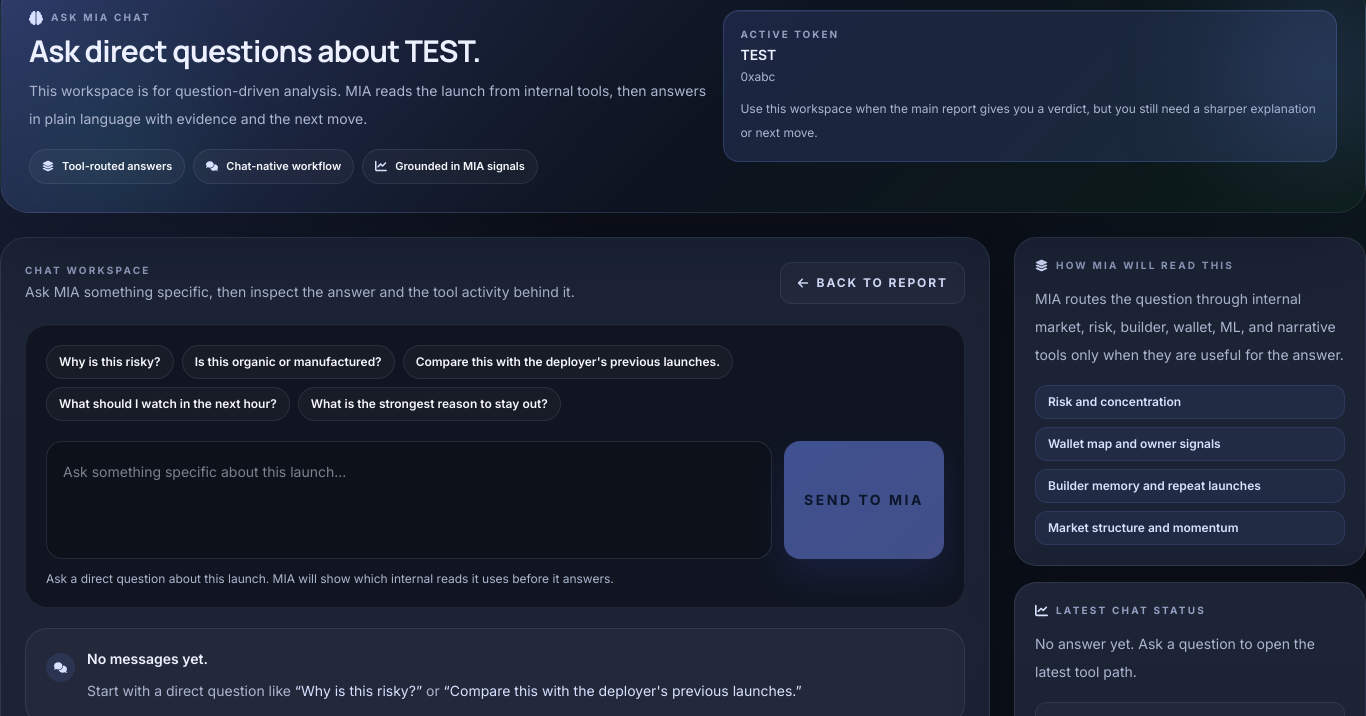
AskMiaChat › shows a safe error message when the request fails
Type "What should I watch in the next hour?" into the text box with placeholder "Ask something specific about this launch...".
click(409, 500); type("What should I watch in the next hour?")  # box [63, 458, 755, 542]
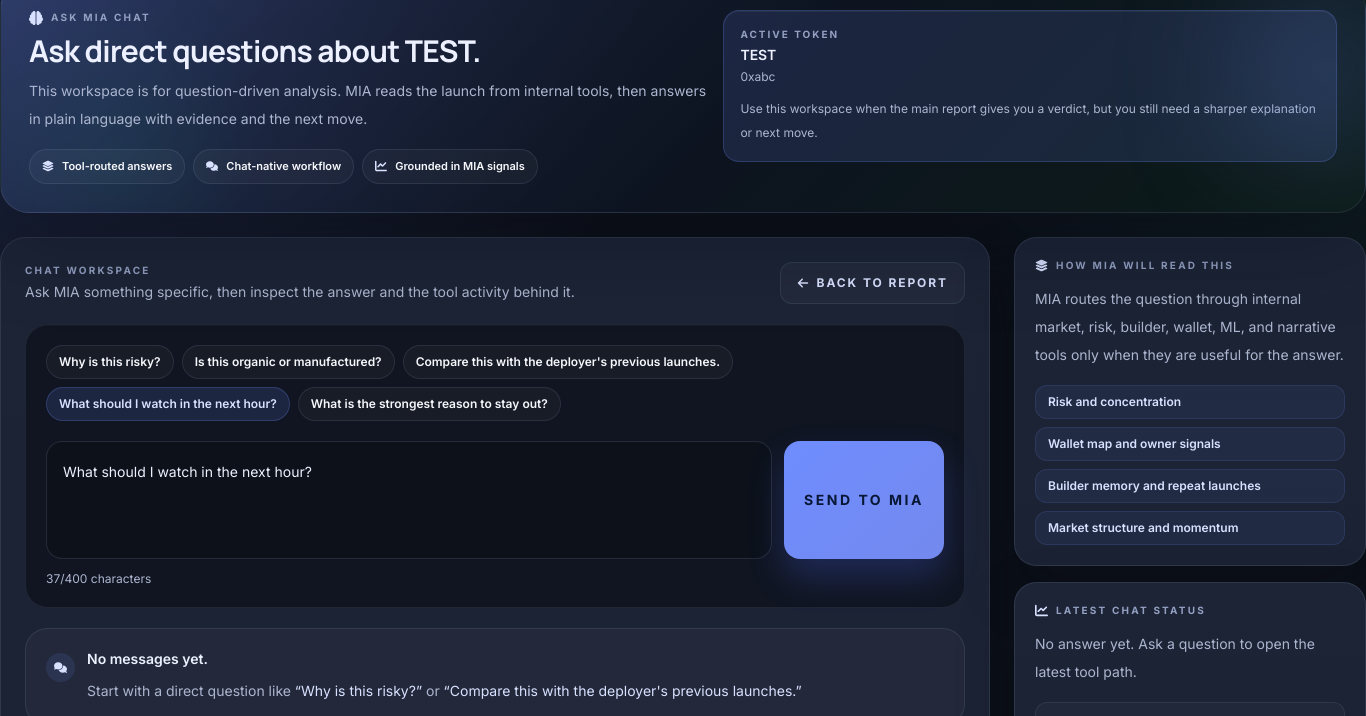
Click the button "Send to MIA".
click(864, 500)  # box [784, 440, 944, 558]
(page scrolled)
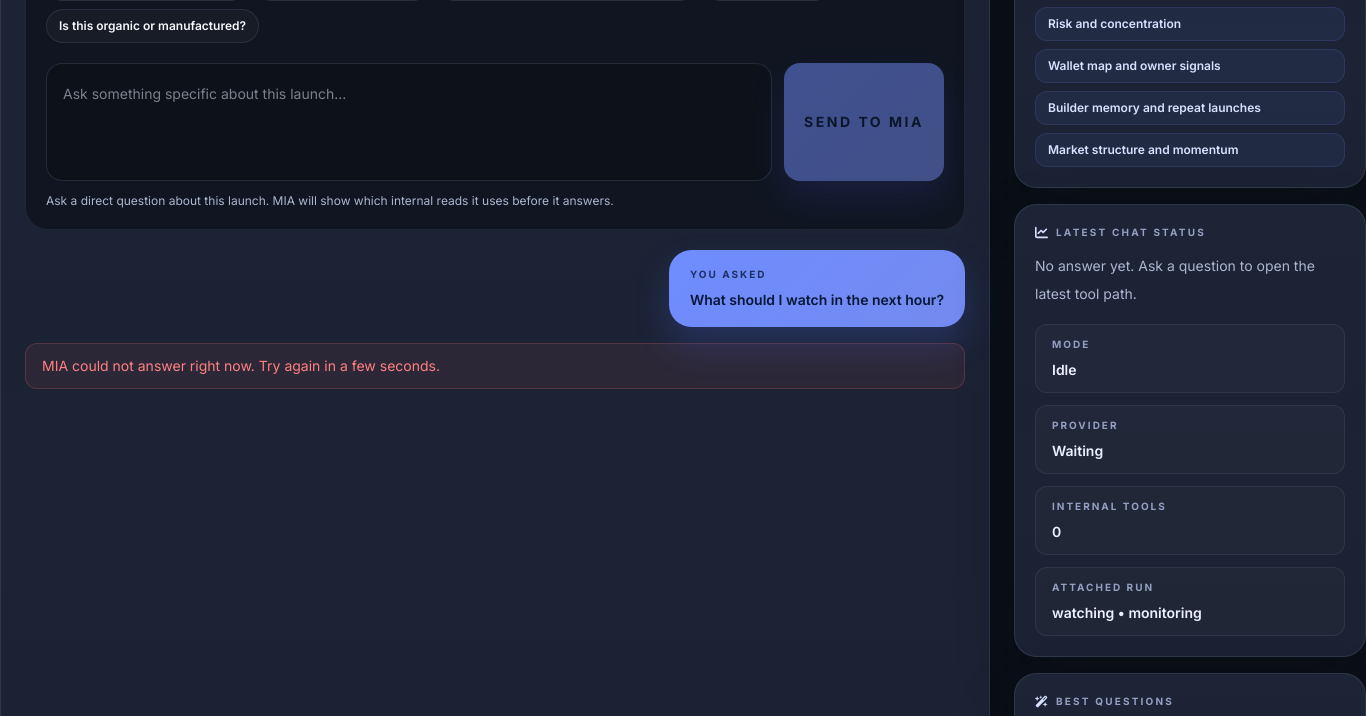
Expected: the text "MIA could not answer right now. Try again in a few seconds." is shown, [25, 343, 965, 389]
